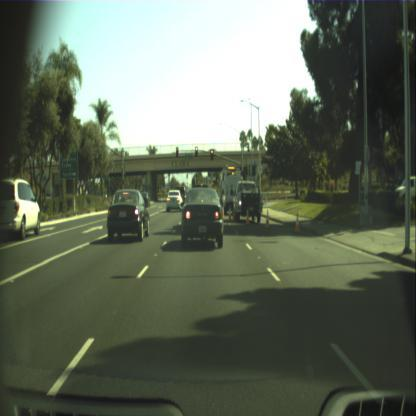Red: (210, 148, 214, 160), (194, 146, 198, 156), (176, 146, 178, 157)
